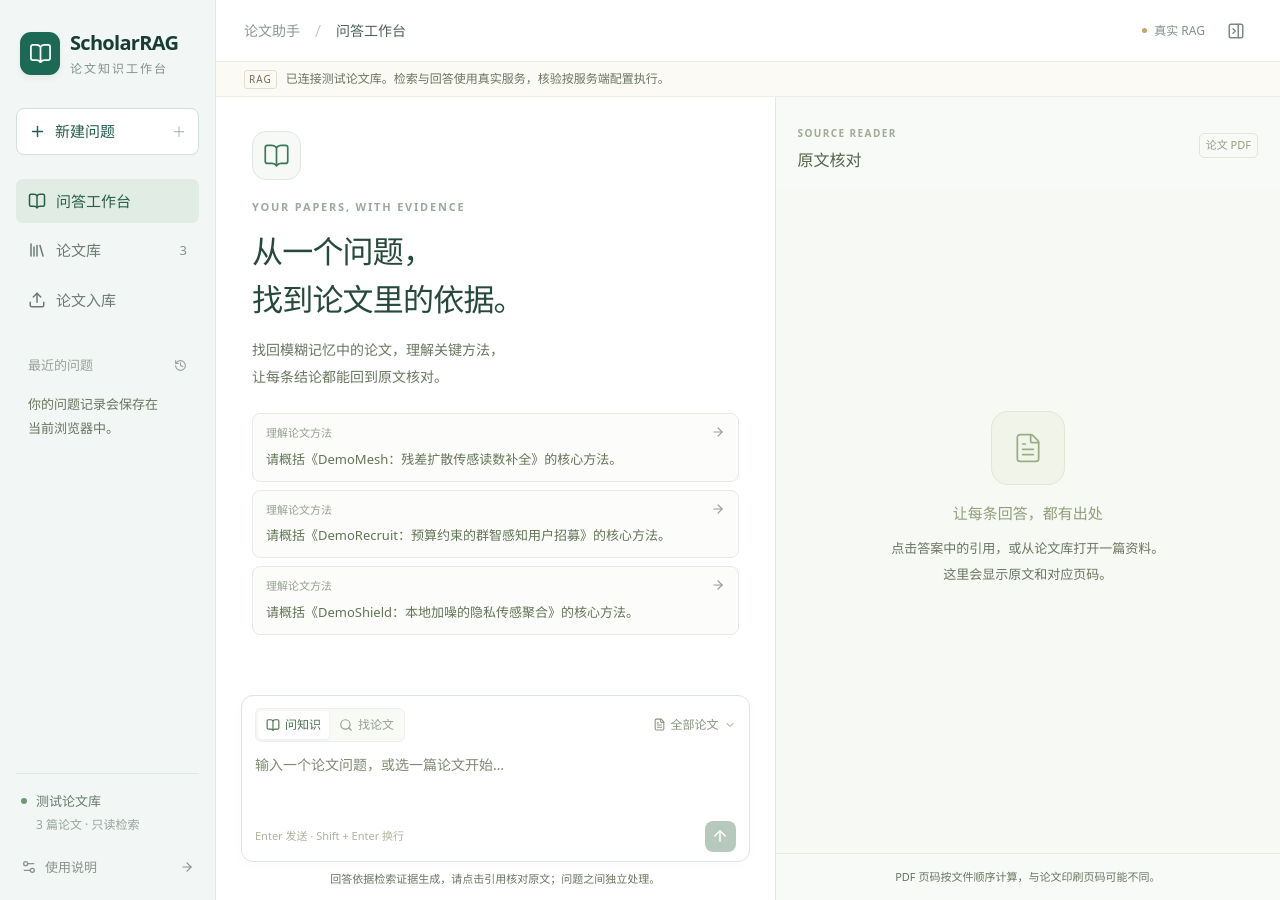
Test case: live RAG workspace › submits arbitrary questions to the real adapter without a demo fallback
The image size is (1280, 900).
Type "这个不是预设示例的问题" into the text box named "输入你的论文问题".
click(495, 786); type("这个不是预设示例的问题")  # box [255,752,736,820]
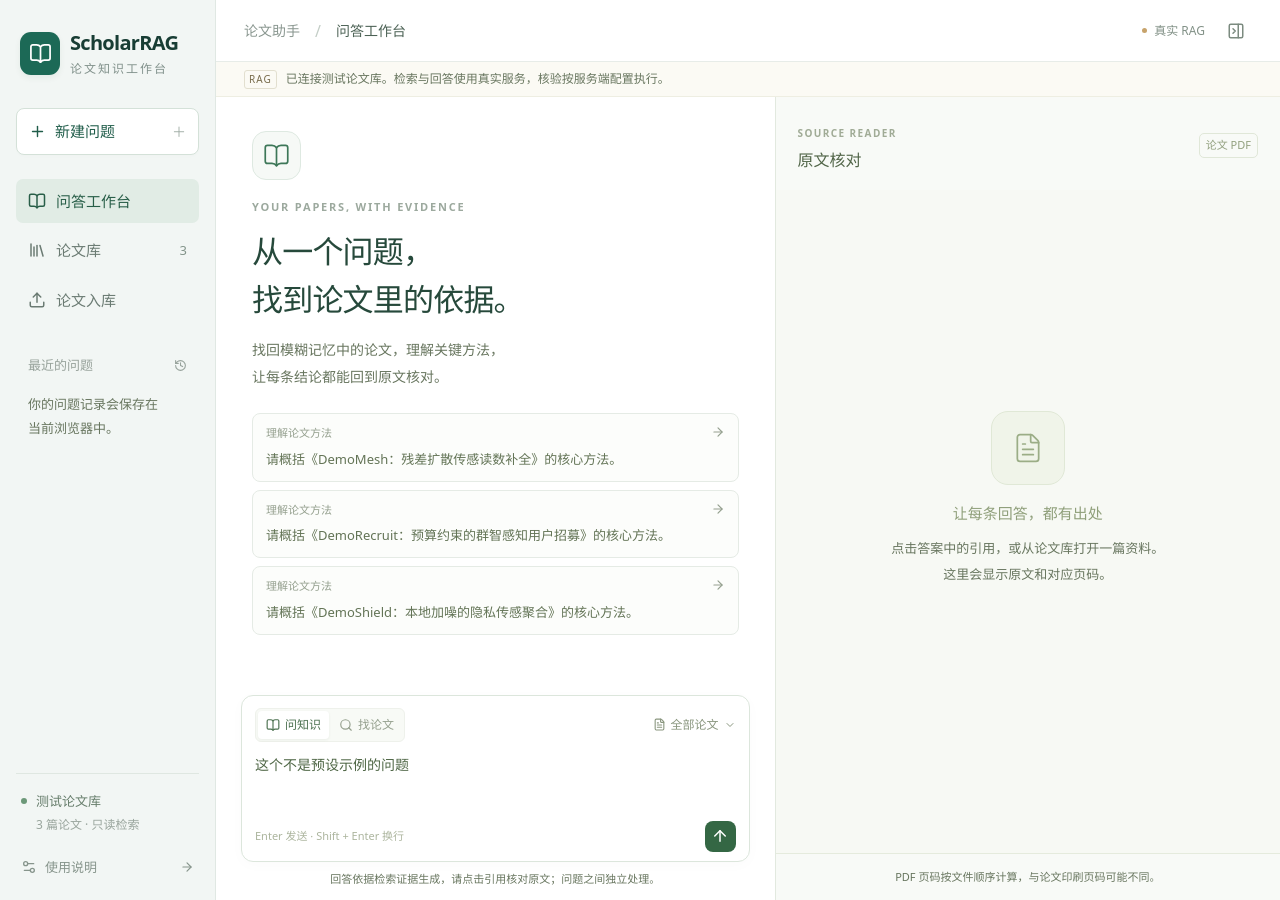
Click the button named "提交问题".
click(720, 836)  # box [705,820,736,852]
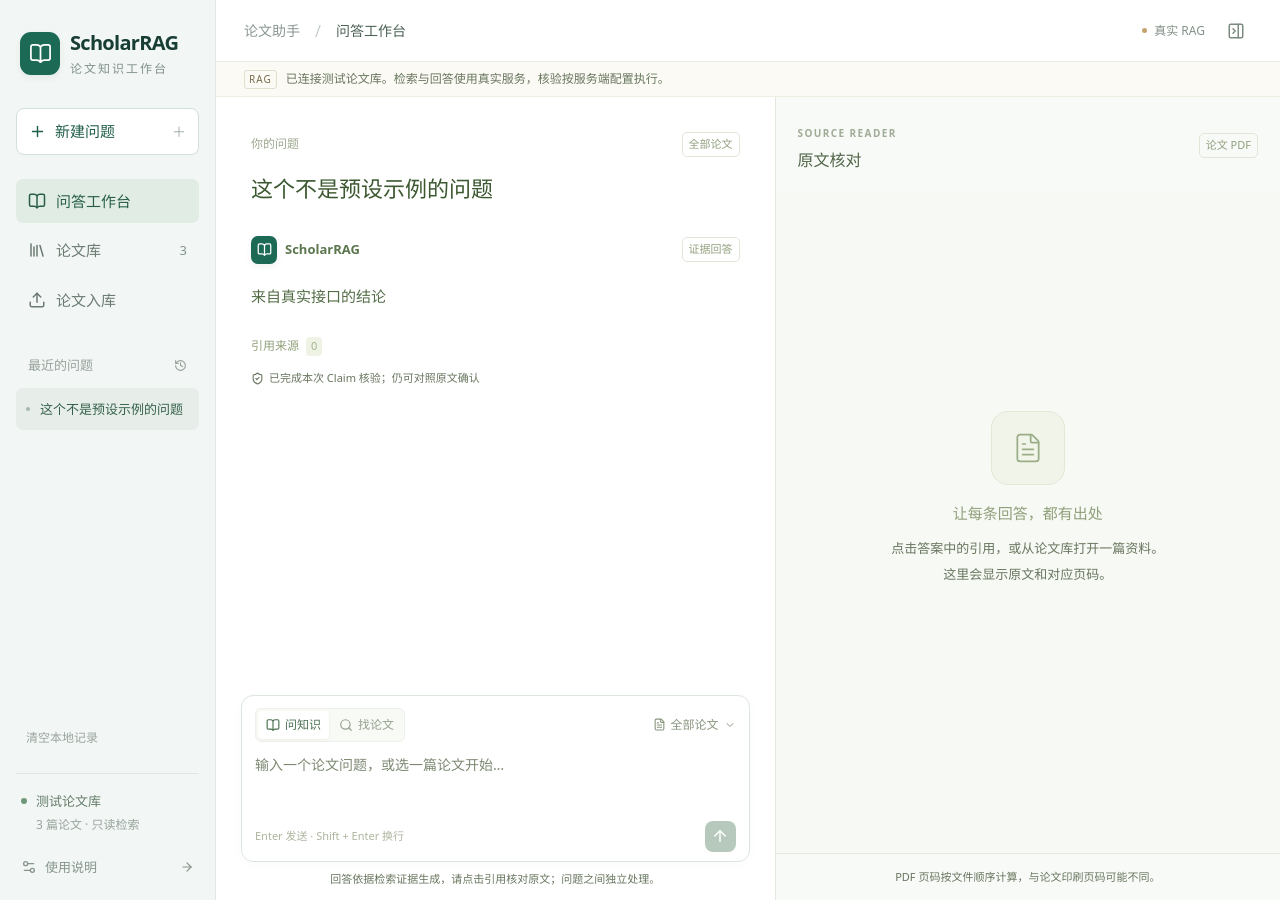
Expected: the text "来自真实接口的结论" is shown, [251,286,386,306]
